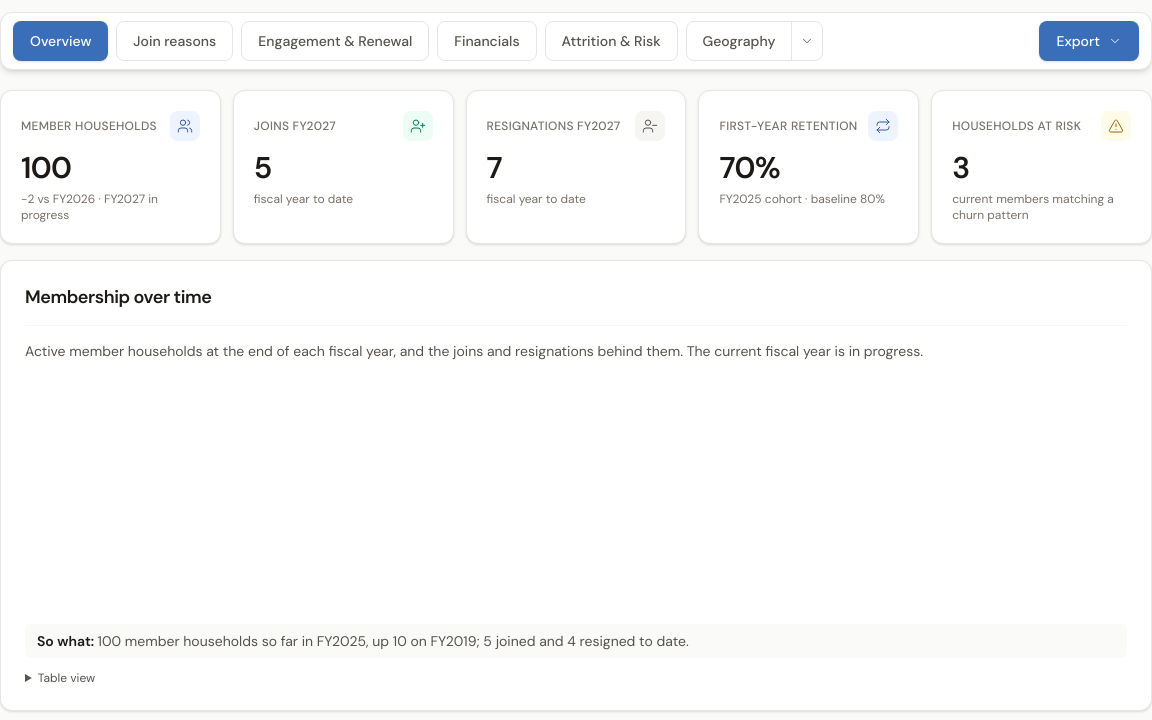
Test: InsightsPage › renders the financials tab from aggregate figures when billing is available
The image size is (1152, 720).
Expected: the heading "Membership over time" is shown, [25,285,211,309]
Click the button "Financials" at (487, 41), box [437,21,537,61]
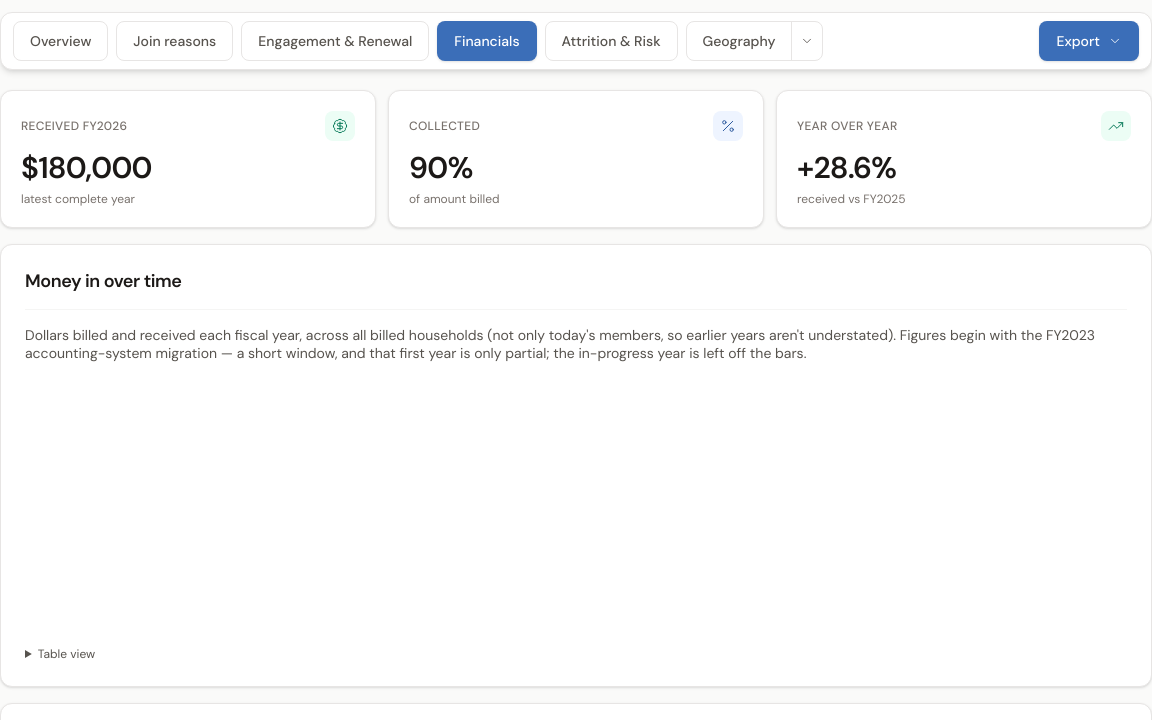
Expected: the heading "Money in over time" is shown, [25,269,182,293]
Expected: the text "$180,000" is shown, [21,148,152,187]
